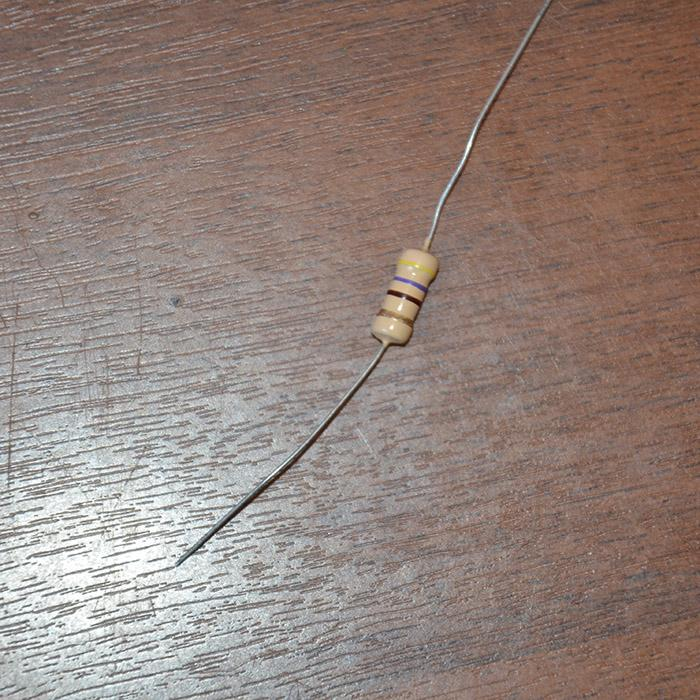resistor: (372, 245, 437, 345)
